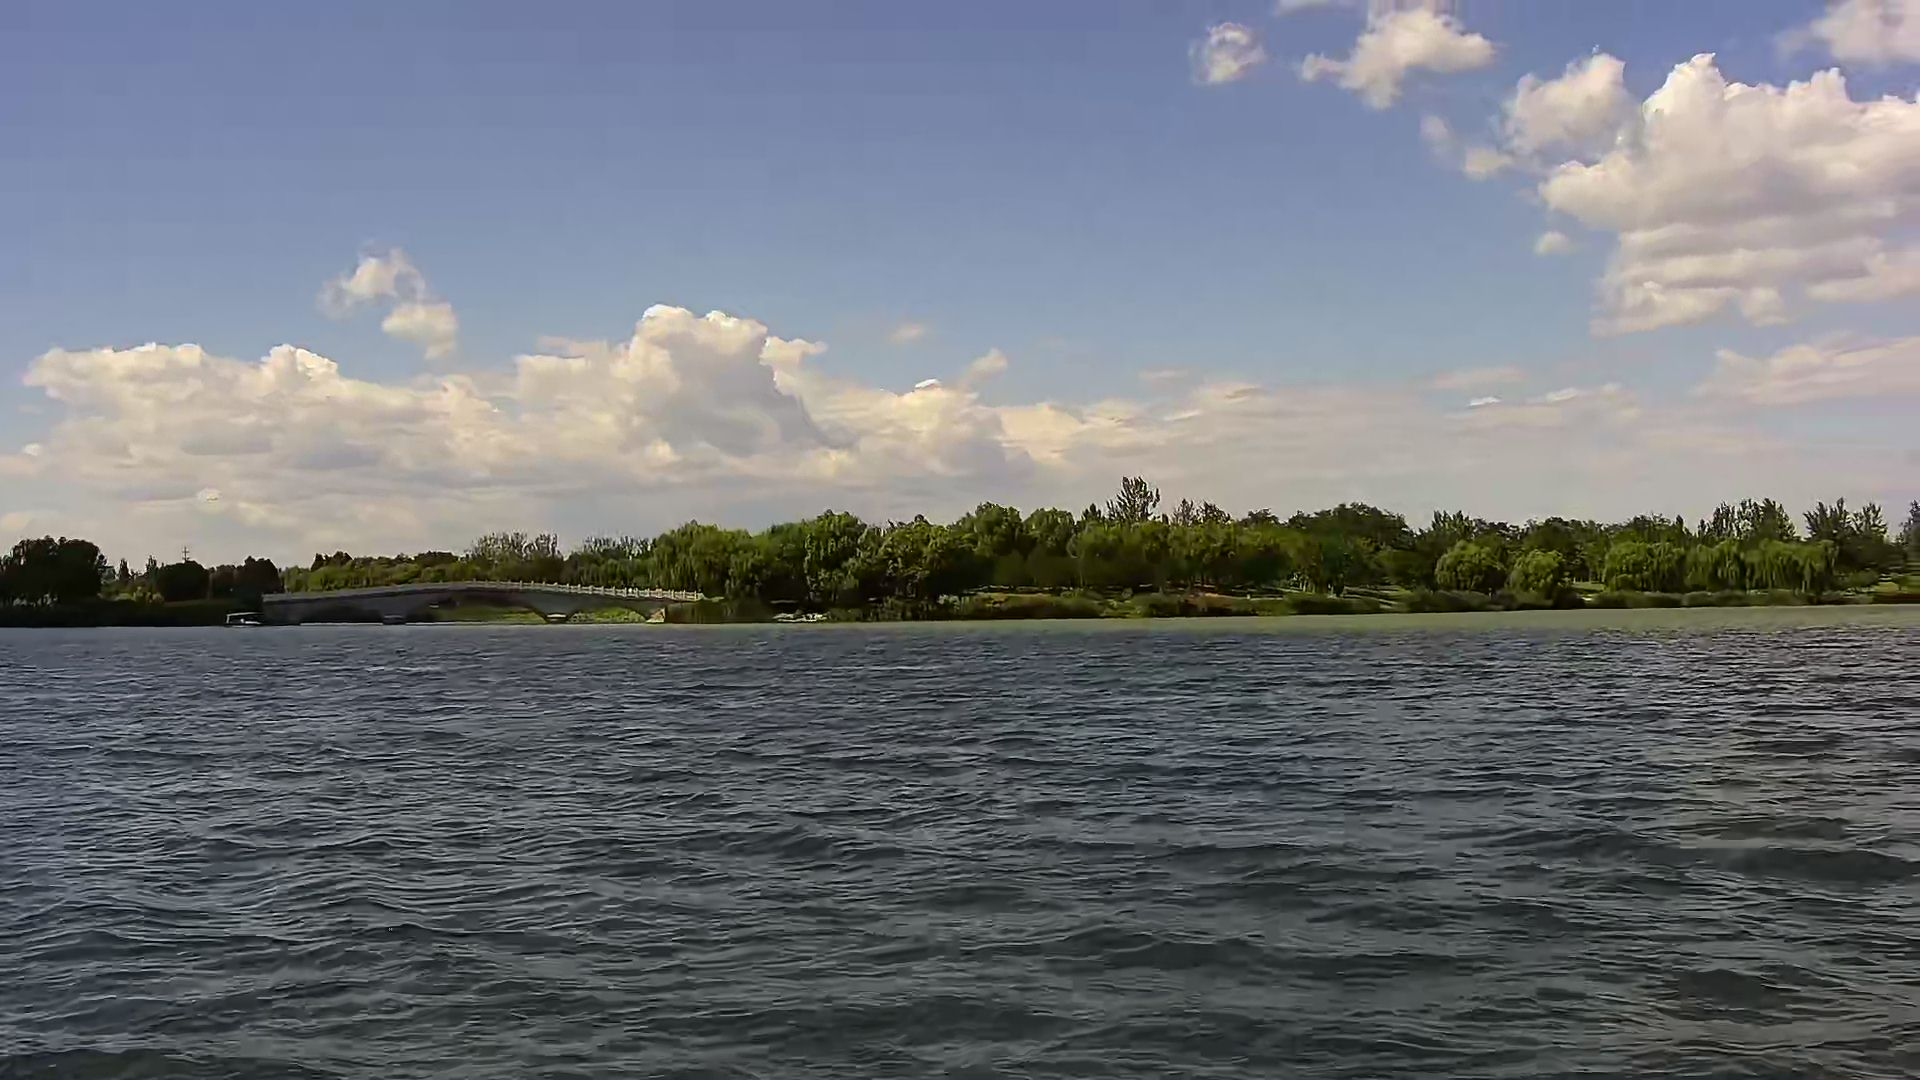bridge: (255, 575, 715, 626)
